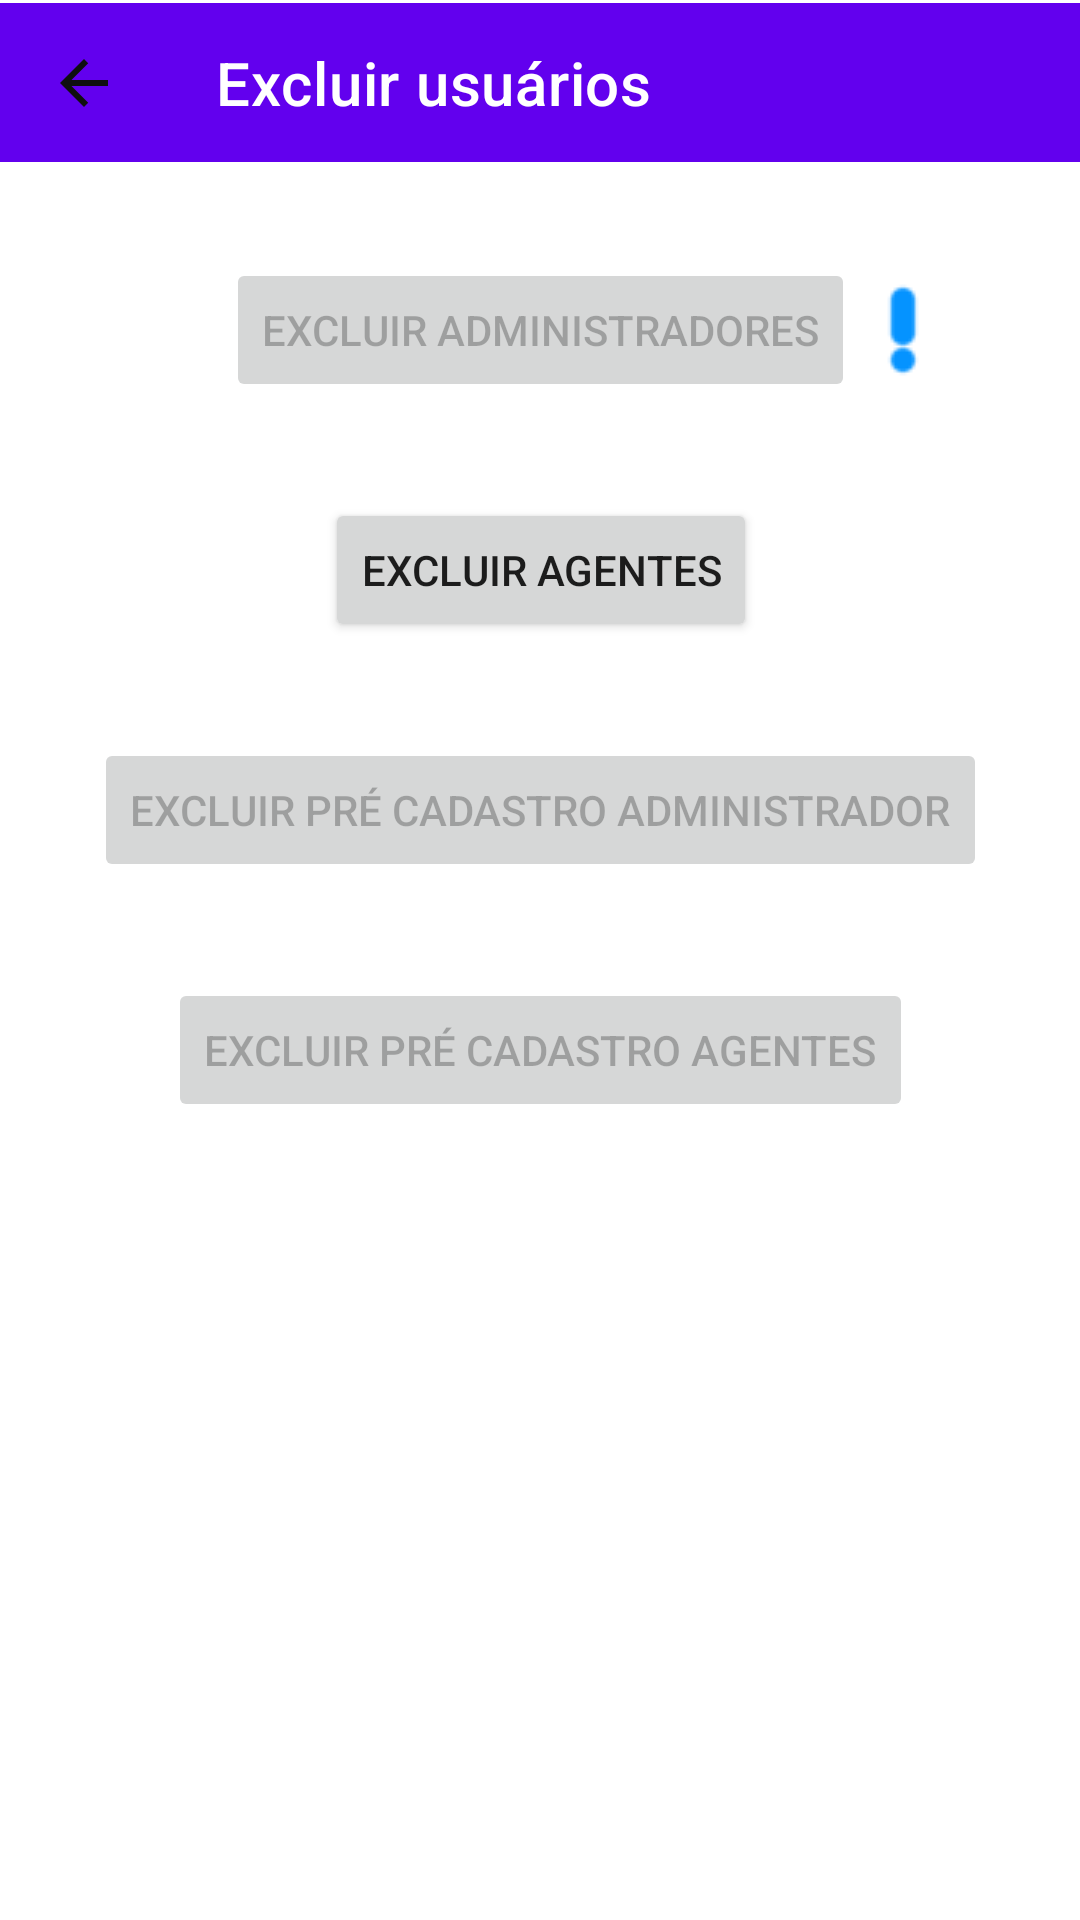

Where to tap for icons on this 1080x1920 app screen, as [x,y]:
alert exclamacao azul: [903,330]
